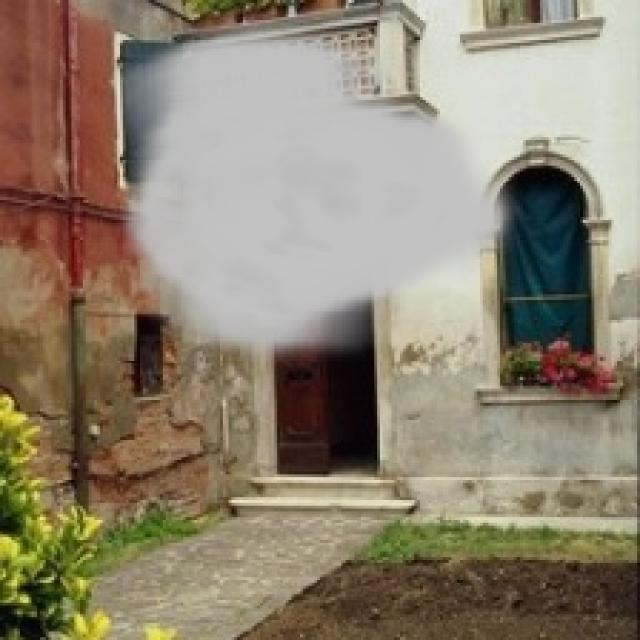Smoke: (114, 22, 523, 368)
